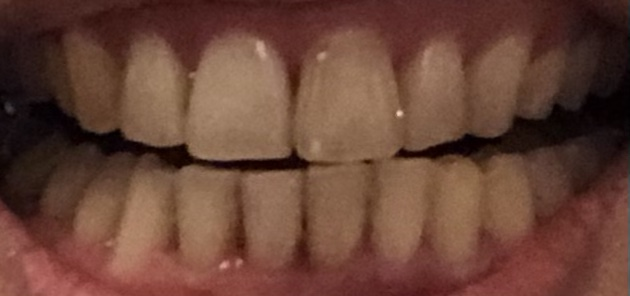teeth: (300, 26, 404, 160), (186, 34, 292, 157), (403, 34, 470, 151), (120, 36, 185, 139), (118, 154, 173, 273), (469, 35, 529, 141), (312, 163, 368, 263), (375, 158, 429, 259), (180, 167, 235, 264), (248, 172, 303, 269), (75, 153, 131, 238), (434, 158, 481, 258), (485, 153, 536, 242), (67, 40, 115, 130), (522, 47, 563, 122)
